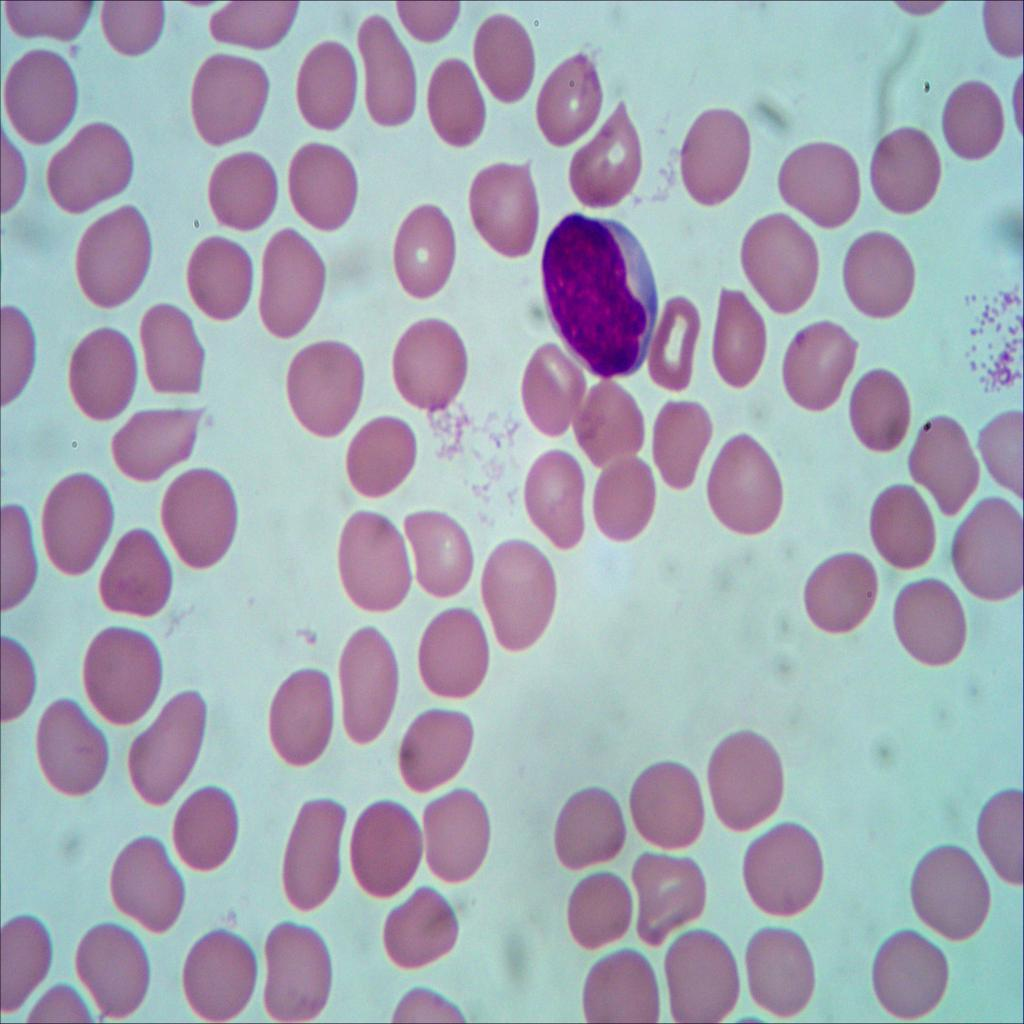Eritrosit: (101, 387, 223, 480), (479, 533, 565, 660), (706, 720, 797, 840), (698, 428, 792, 544), (124, 685, 212, 807), (740, 798, 830, 916), (252, 214, 332, 346), (382, 312, 478, 422), (283, 335, 374, 449), (742, 912, 833, 1024), (76, 622, 170, 730), (68, 916, 162, 1024), (324, 503, 416, 612), (865, 916, 957, 1024), (655, 912, 742, 1024), (854, 471, 944, 579), (28, 696, 116, 806), (542, 782, 643, 877), (466, 143, 547, 260), (102, 824, 185, 938), (626, 842, 718, 944), (332, 622, 406, 747), (261, 658, 339, 776), (911, 845, 1001, 947), (0, 39, 80, 153), (279, 790, 355, 910), (561, 100, 643, 211), (47, 119, 138, 219), (338, 790, 420, 898), (738, 209, 822, 314), (522, 446, 602, 556), (353, 16, 425, 138), (952, 487, 1024, 609), (623, 754, 711, 852), (777, 132, 862, 233), (254, 920, 339, 1020), (372, 880, 466, 970), (858, 127, 946, 223), (893, 568, 970, 677), (338, 396, 420, 498), (80, 204, 156, 314), (400, 500, 480, 604), (164, 464, 241, 572), (189, 44, 270, 146), (46, 466, 120, 577), (60, 320, 141, 420), (286, 140, 358, 252), (178, 231, 257, 333), (709, 272, 776, 392), (842, 225, 924, 323), (805, 544, 894, 634), (392, 701, 479, 793), (514, 342, 594, 442), (98, 533, 184, 626), (572, 946, 673, 1024), (139, 294, 208, 408), (679, 105, 751, 214), (177, 924, 258, 1020), (910, 412, 984, 517), (644, 392, 720, 494), (420, 785, 496, 886), (410, 609, 494, 699), (535, 52, 606, 158), (173, 779, 245, 883), (783, 317, 856, 417), (466, 14, 540, 112), (204, 143, 280, 238), (572, 371, 650, 463), (842, 356, 913, 456), (391, 200, 460, 300), (564, 870, 640, 960), (938, 71, 1007, 170), (423, 56, 489, 158), (289, 40, 360, 132), (0, 910, 60, 1016), (594, 450, 660, 544), (653, 292, 707, 393), (95, 0, 162, 54)
Limfoblast: (539, 200, 662, 385)
